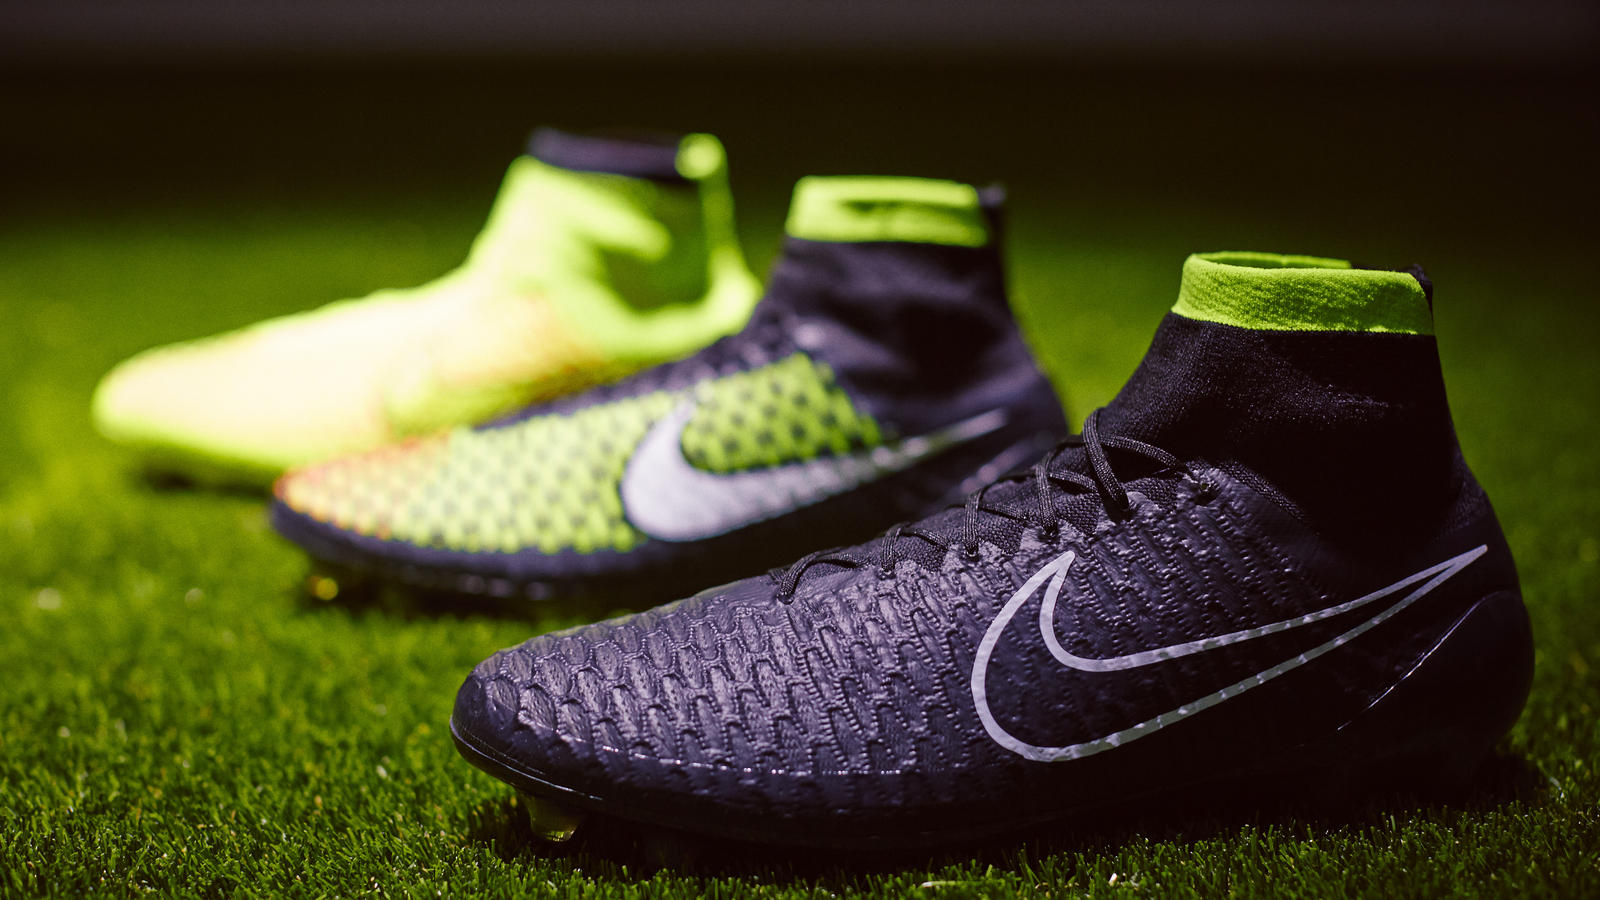football boots: (449, 249, 1540, 842), (268, 174, 1051, 604), (89, 123, 770, 497)
